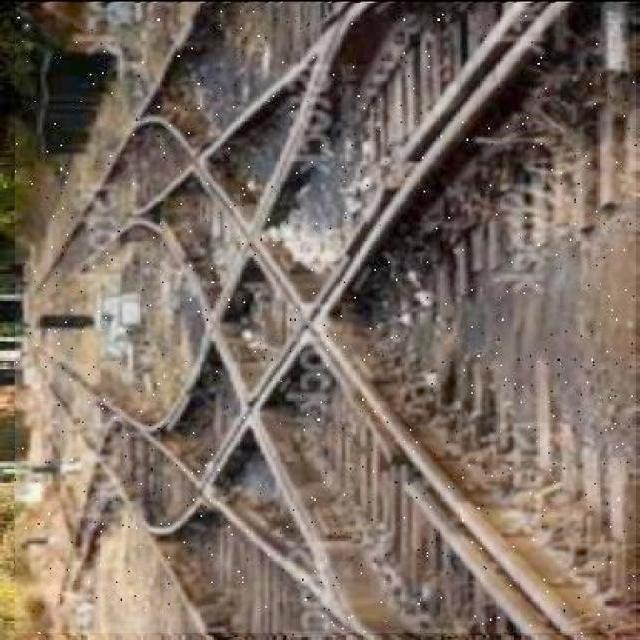rail: (17, 3, 637, 634)
